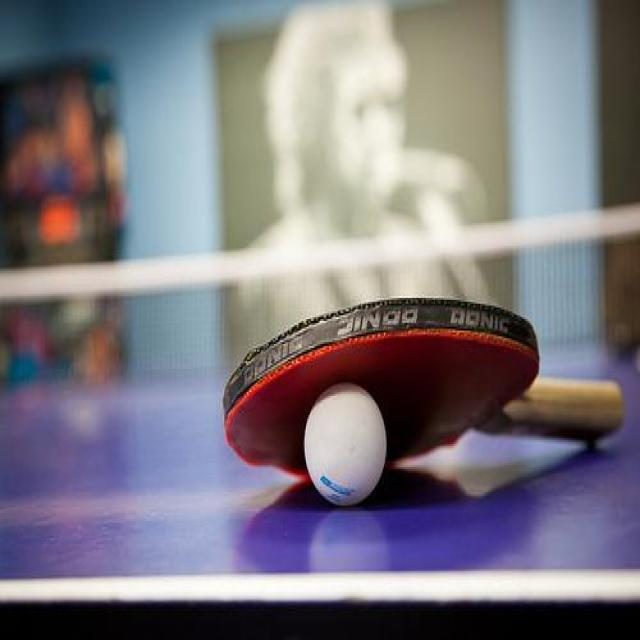ping-pong-ball: (303, 383, 388, 511)
